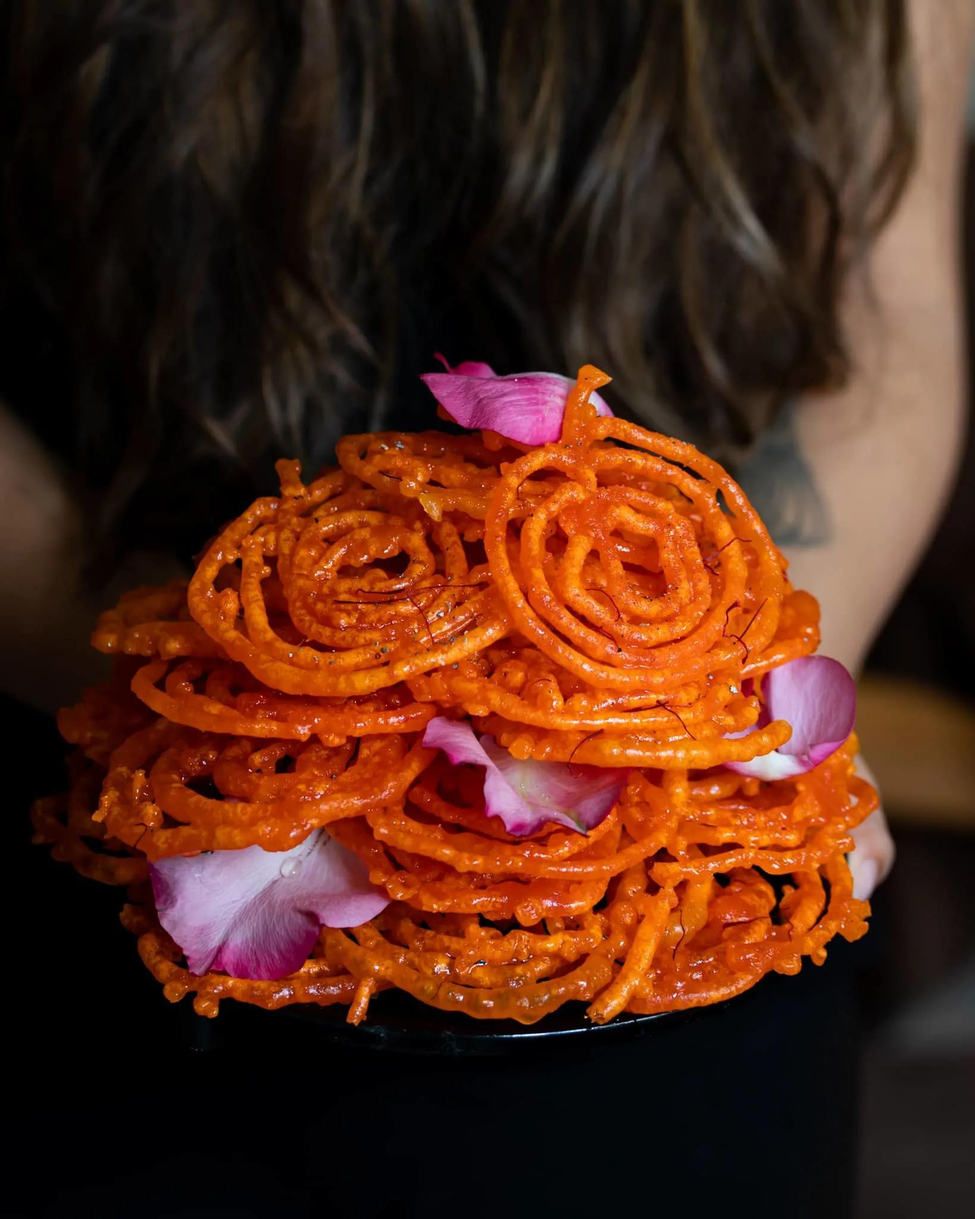jalebi: (113, 388, 890, 1014)
